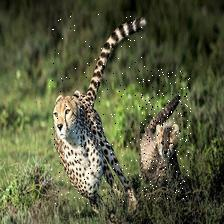Cheetha: (48, 12, 145, 209), (139, 69, 191, 199)
